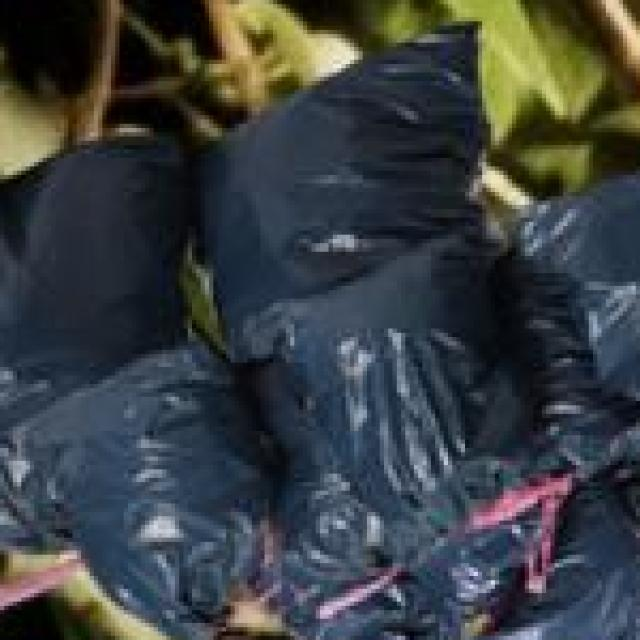Trashbag: (262, 226, 576, 497), (38, 382, 248, 604), (2, 179, 204, 342), (247, 101, 455, 198), (408, 498, 550, 609), (289, 507, 393, 631)
